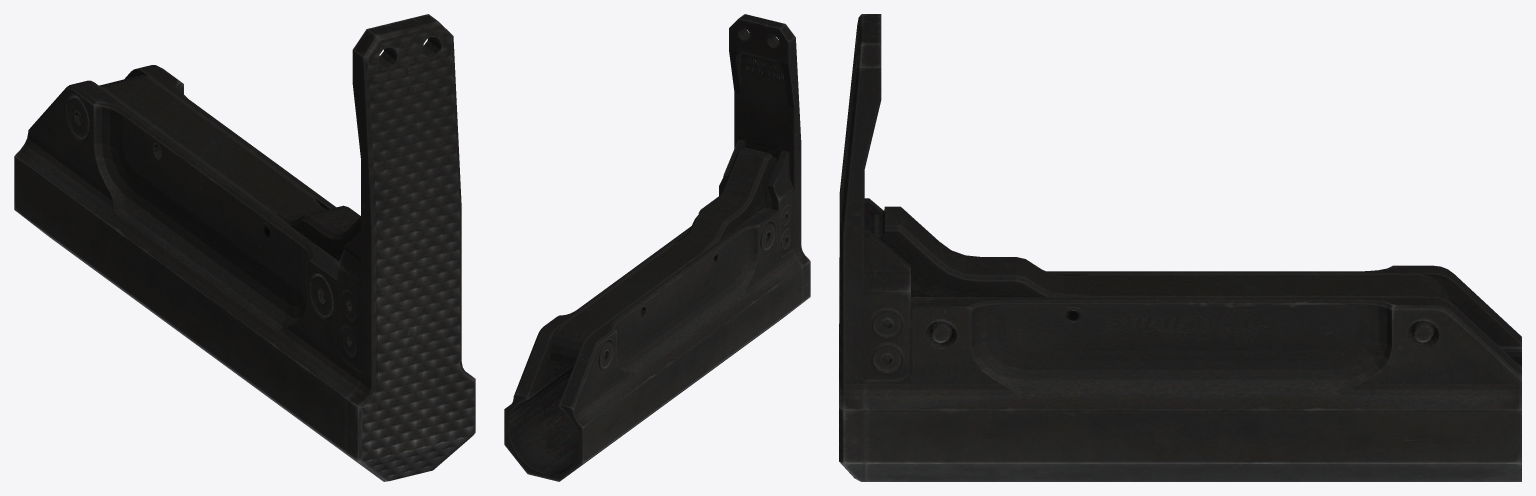
3 renders of one model, left to right at view 1: azimuth 30°, elevation 25°; view 2: azimuth 150°, elevation 25°; view 3: azimuth 270°, elevation 25°, orthographic. The views are drawn at different scales.
Visible parts, largest first — view 1: TW_606587d11246154cad35d635_PZ_Import; view 2: TW_606587d11246154cad35d635_PZ_Import; view 3: TW_606587d11246154cad35d635_PZ_Import.
Boxes of the visible parts, <box> form: TW_606587d11246154cad35d635_PZ_Import: <box>14,14,475,481</box>; TW_606587d11246154cad35d635_PZ_Import: <box>504,14,810,481</box>; TW_606587d11246154cad35d635_PZ_Import: <box>839,14,1521,481</box>.
Size of the model in its own units: 0.0189 by 0.096 by 0.0685.
1 material, 1 textured.
